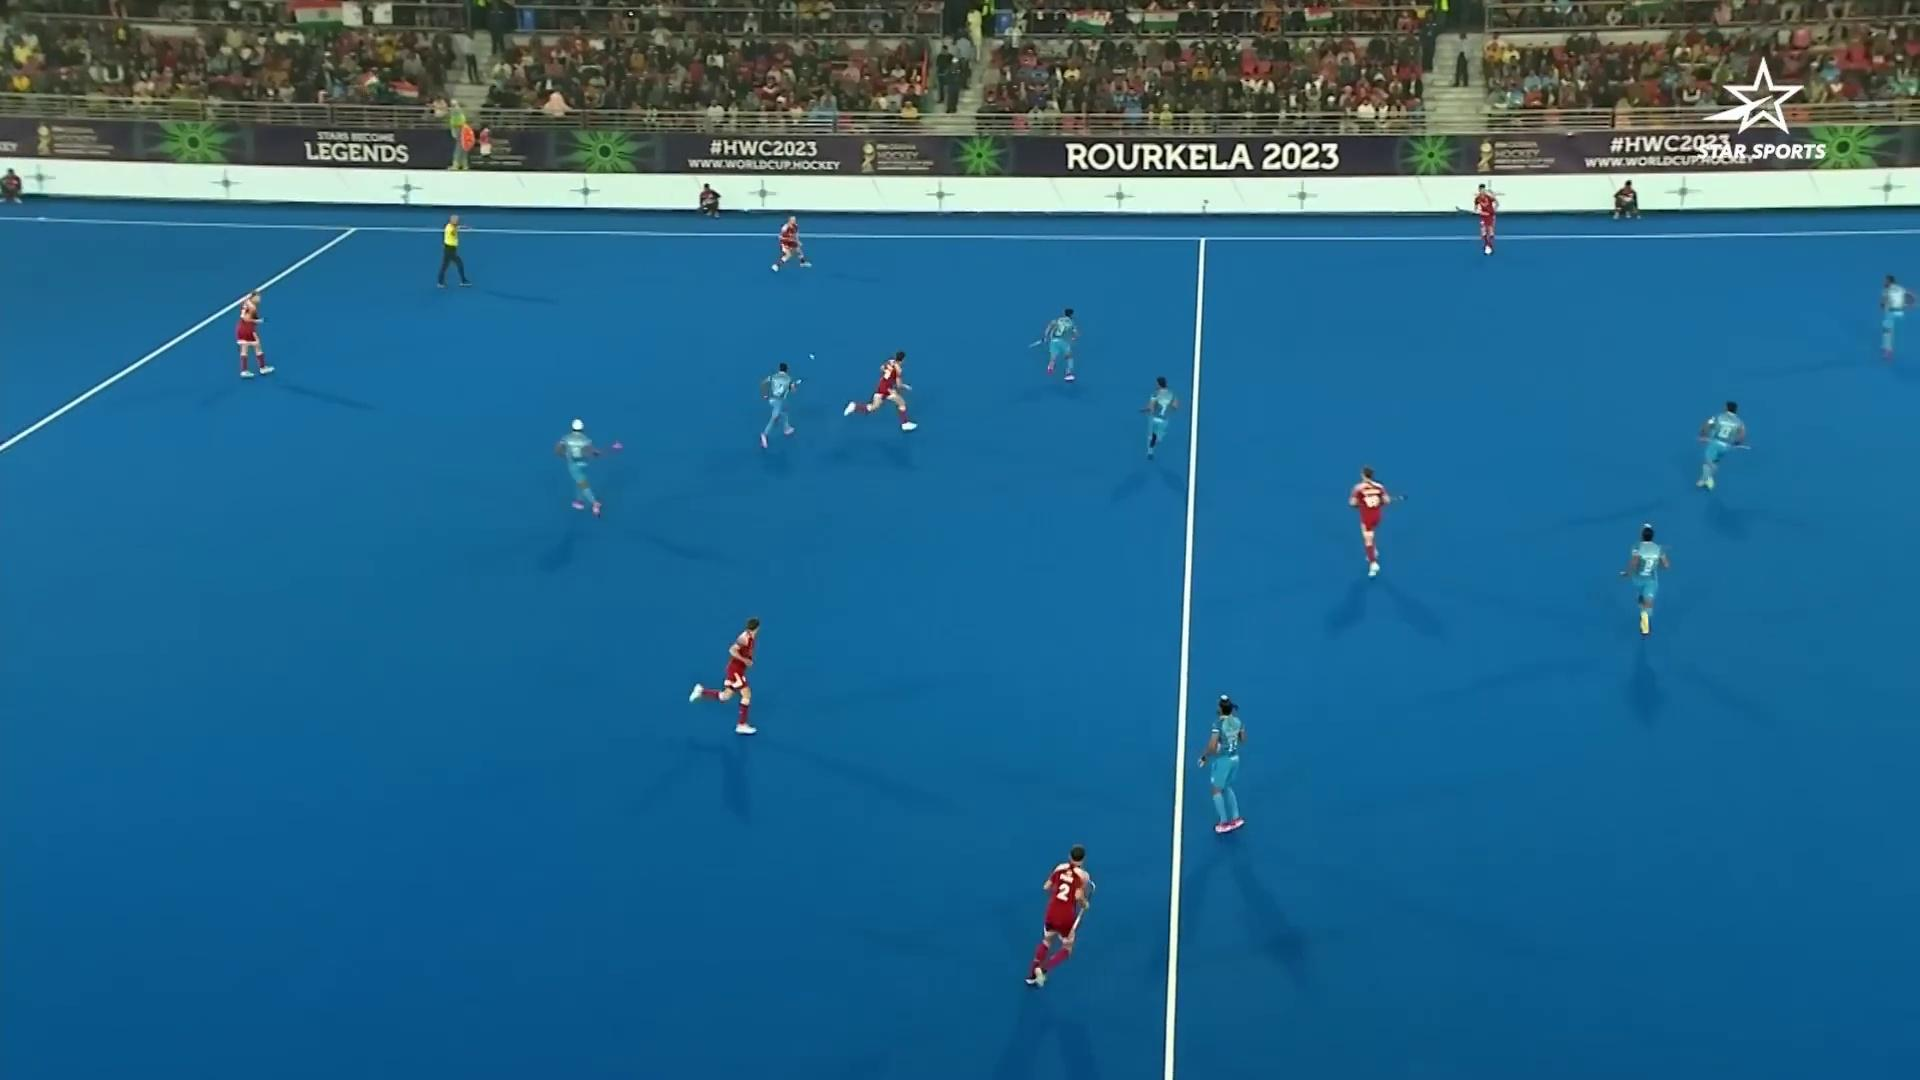ball: (803, 349, 820, 364)
